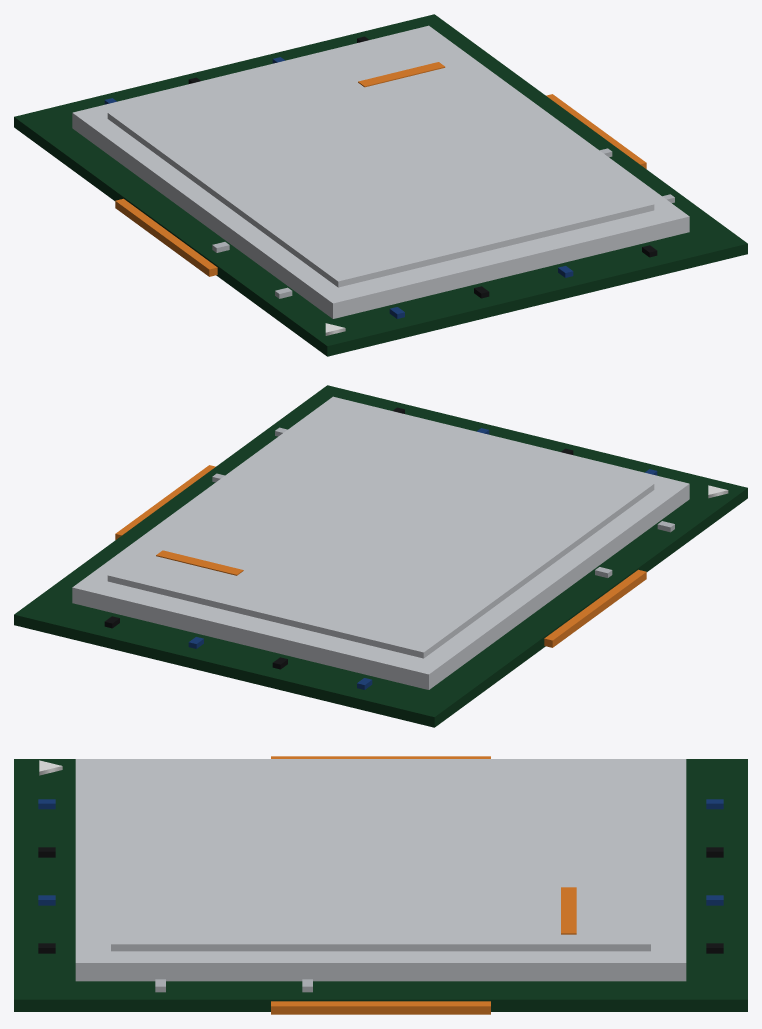
File: hw_cpu_epyc_7302p.glb
The picture shows the model from 3 angles, top to bottom: view 1: azimuth 30°, elevation 25°; view 2: azimuth 150°, elevation 25°; view 3: azimuth 270°, elevation 25°; orthographic projection. The views are drawn at different scales.
Parts seen in each view (by area): view 1: Body; view 2: Body; view 3: Body.
Boxes of the visible parts, x1,y1,x2,y2 form: Body: (14, 14, 747, 356); Body: (14, 385, 747, 727); Body: (14, 756, 747, 1014).
Bounding box in the file's own units: 0.0608 × 0.00467 × 0.0755.
